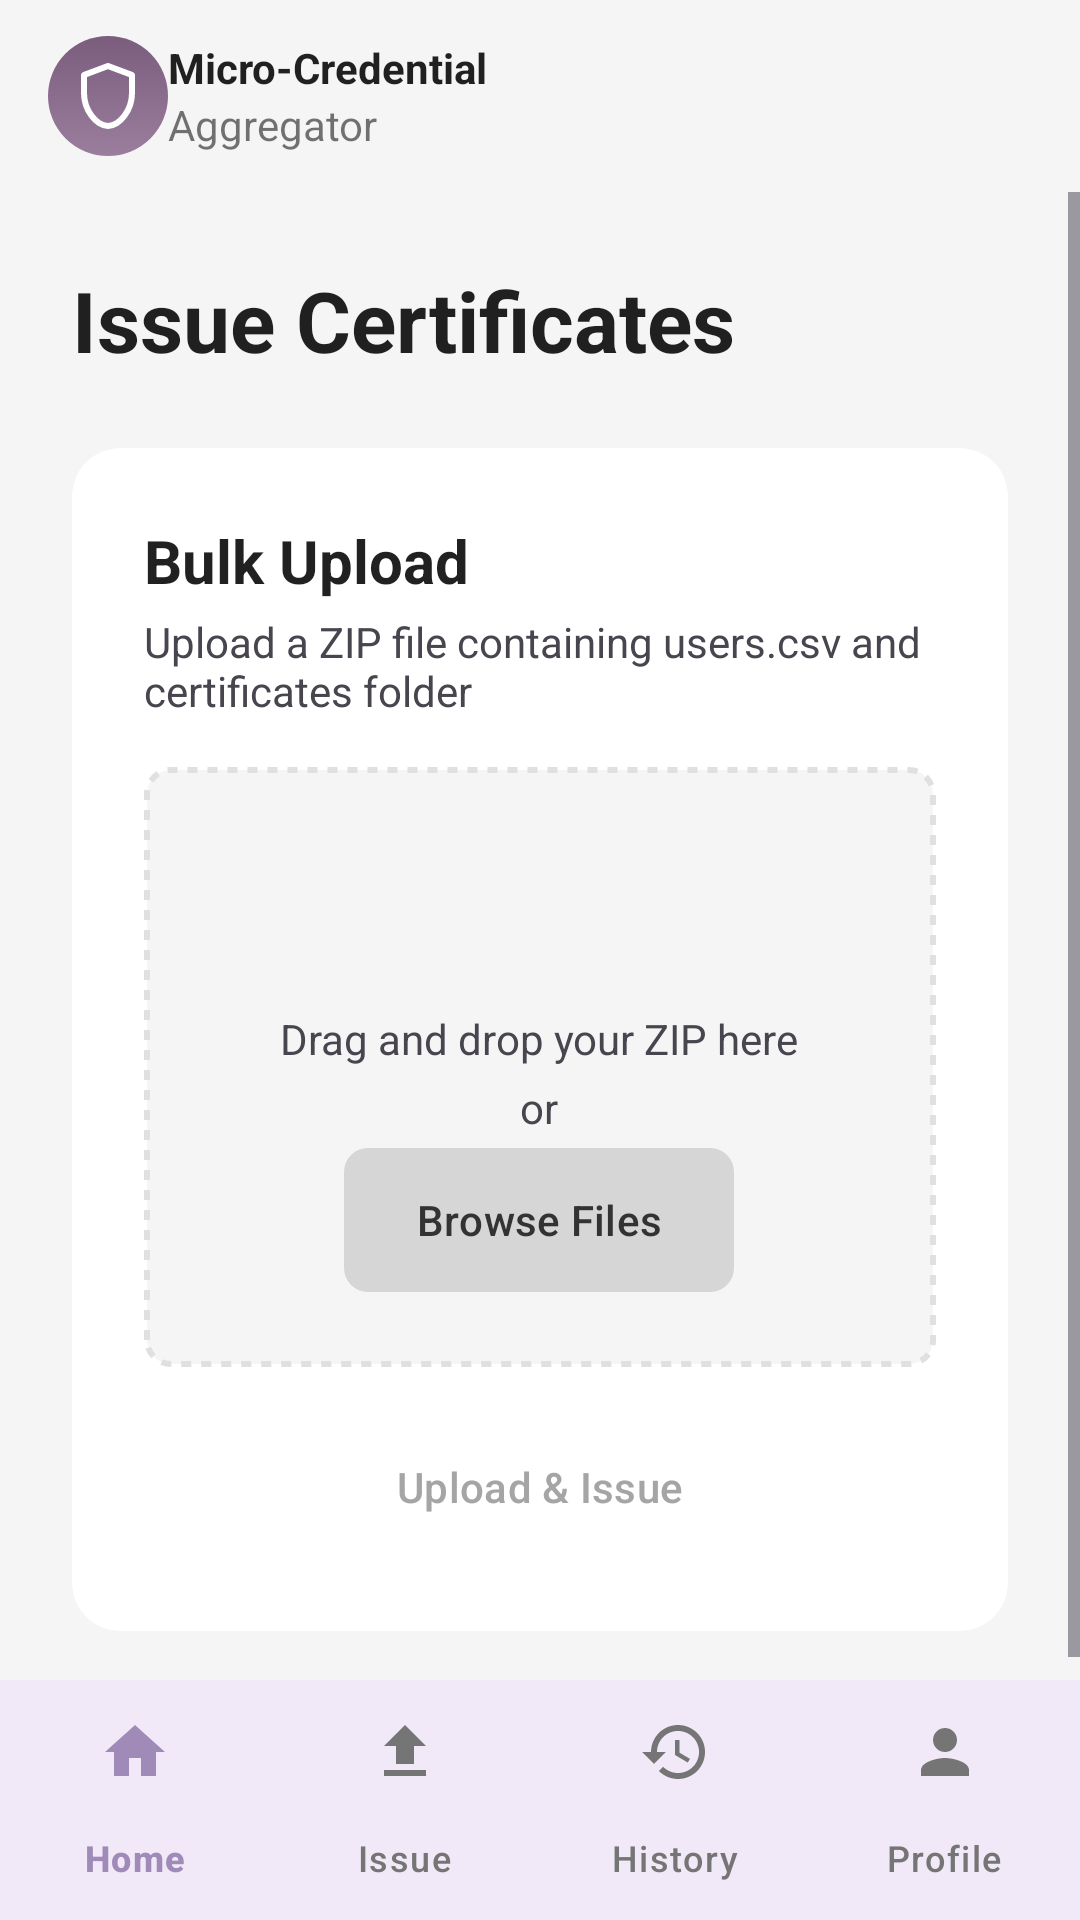

Point at icon controls on the screen. Image size 1080*1920, points as (x=x, y=y).
shield: (x=108, y=96)
